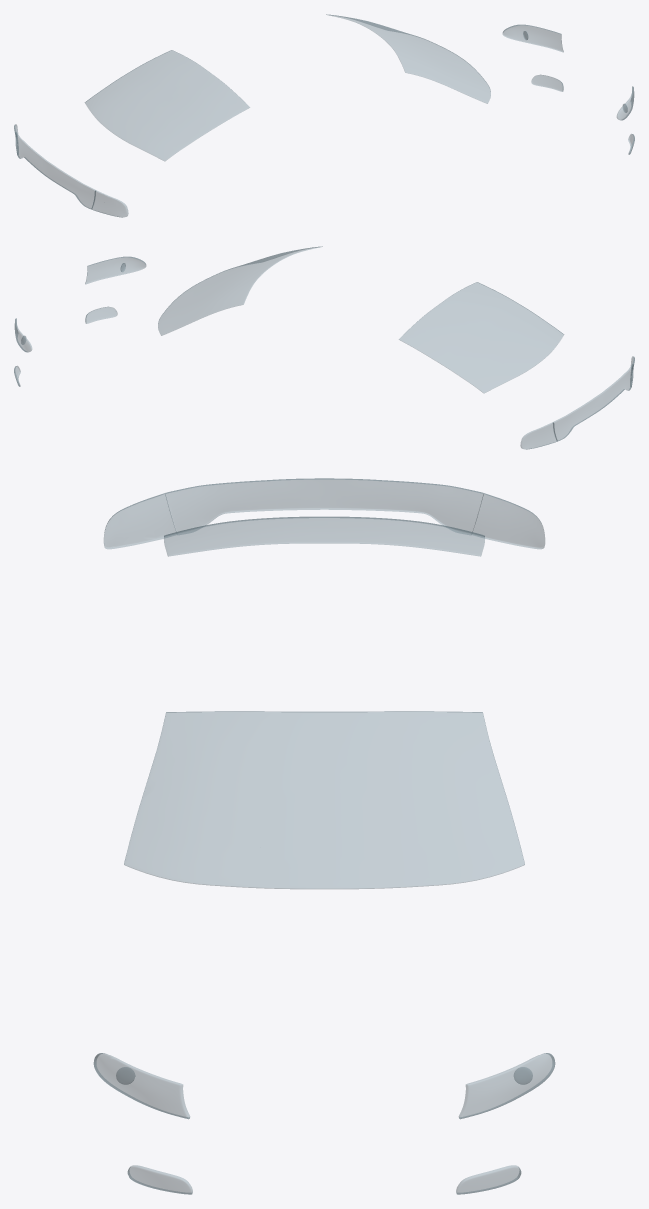
3 views of the same model, one above another, from view 1: azimuth 30°, elevation 25°; view 2: azimuth 150°, elevation 25°; view 3: azimuth 270°, elevation 25° (orthographic). The views are drawn at different scales.
Visible parts, largest first — view 1: SM_DodgeCharger_Glass_Ext1; view 2: SM_DodgeCharger_Glass_Ext1; view 3: SM_DodgeCharger_Glass_Ext1.
Boxes of the visible parts, <box> form: SM_DodgeCharger_Glass_Ext1: <box>14,14,634,217</box>; SM_DodgeCharger_Glass_Ext1: <box>14,246,634,449</box>; SM_DodgeCharger_Glass_Ext1: <box>93,478,555,1194</box>.
Size of the model in its own units: 4.76 by 1.14 by 1.72.
